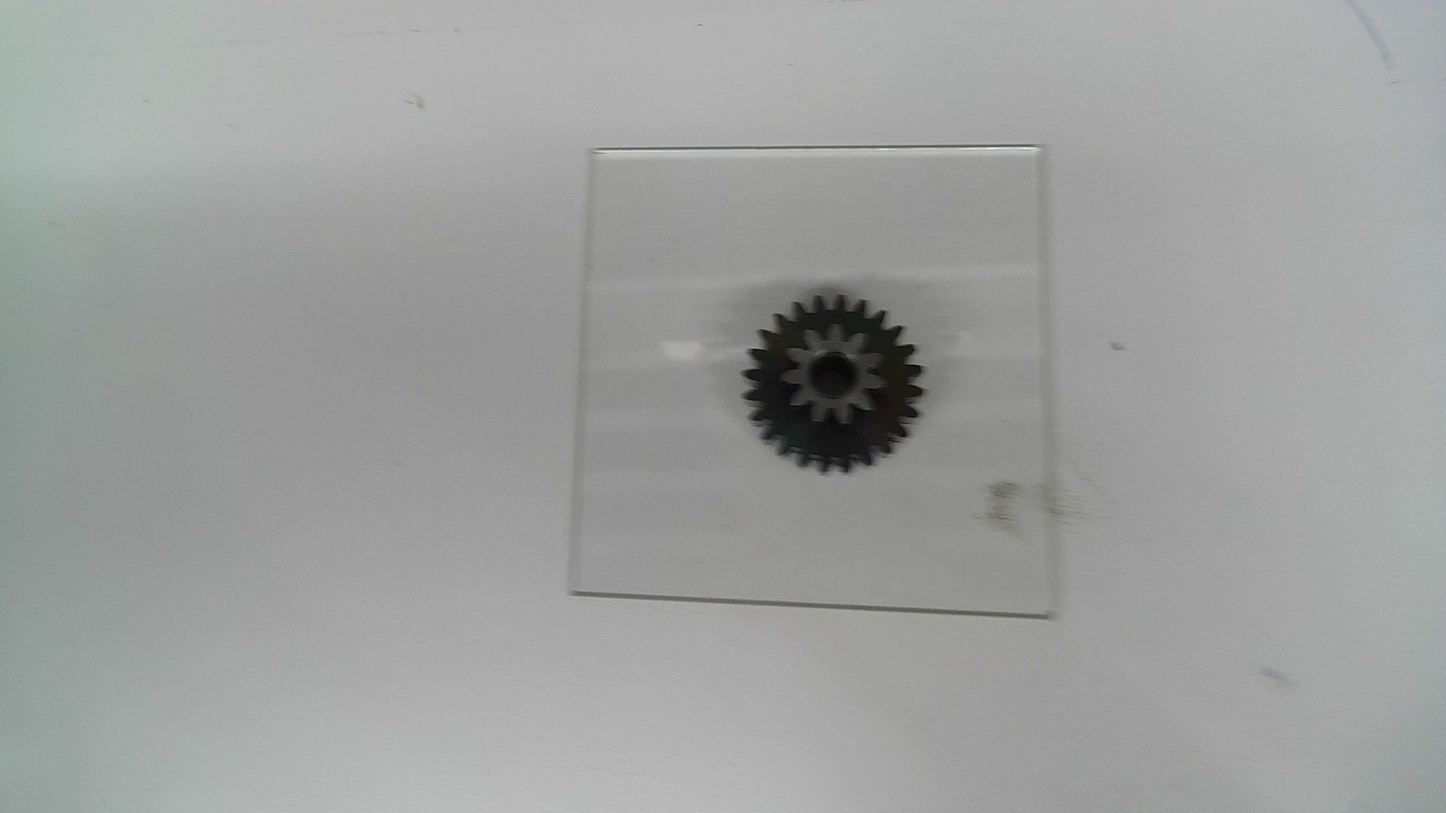gear: (737, 293, 926, 478)
